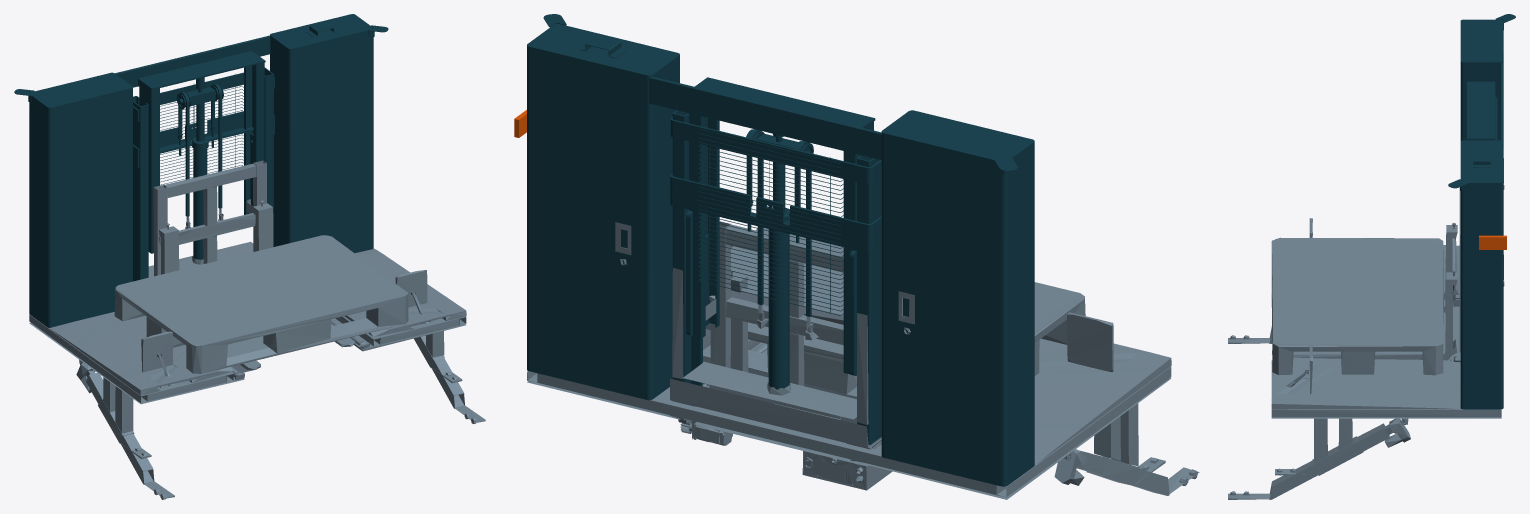
Rendered from chassis.dae.
The picture shows the model from 3 angles, left to right: view 1: azimuth 30°, elevation 25°; view 2: azimuth 150°, elevation 25°; view 3: azimuth 270°, elevation 25°; orthographic projection. The views are drawn at different scales.
Parts seen in each view (by area): view 1: node; view 2: node; view 3: node.
Part boxes in pixels (x1,y1,x2,y2): node: (14,14,485,499); node: (514,14,1199,499); node: (1228,14,1515,499).
Bounding box in the file's own units: 1.92 × 1.34 × 1.67.
